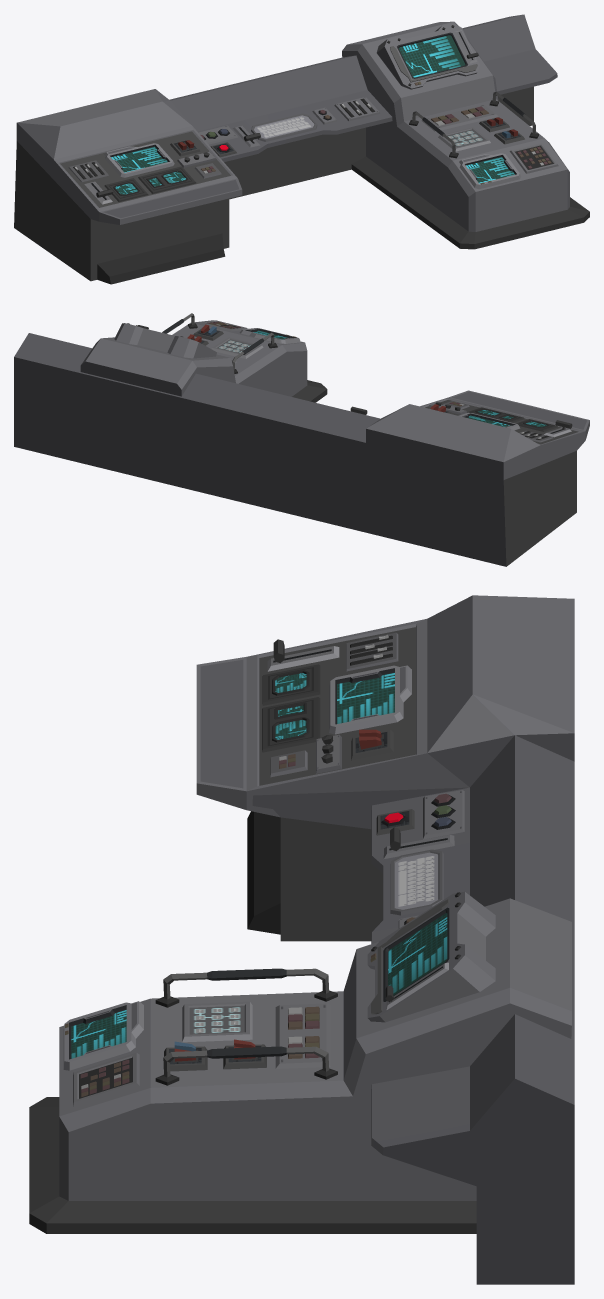
Rendered from SM_Prop_ControlPanel_03.glb.
3 renders of one model, top to bottom at view 1: azimuth 30°, elevation 25°; view 2: azimuth 150°, elevation 25°; view 3: azimuth 270°, elevation 25°, orthographic. The views are drawn at different scales.
Visible parts, largest first — view 1: SM_Prop_ControllPanel_03; view 2: SM_Prop_ControllPanel_03; view 3: SM_Prop_ControllPanel_03.
Boxes of the visible parts, <box> form: SM_Prop_ControllPanel_03: <box>14,14,589,284</box>; SM_Prop_ControllPanel_03: <box>14,313,589,566</box>; SM_Prop_ControllPanel_03: <box>29,595,574,1284</box>.
Size of the model in its own units: 5.32 by 1.28 by 2.55.
Materials: 1 (1 with a texture image).
